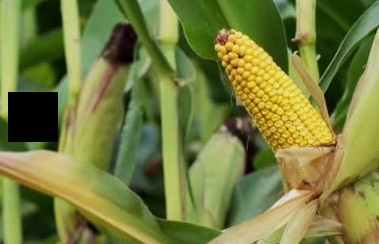corn: (209, 29, 352, 197)
corn_plant: (40, 14, 149, 239)
